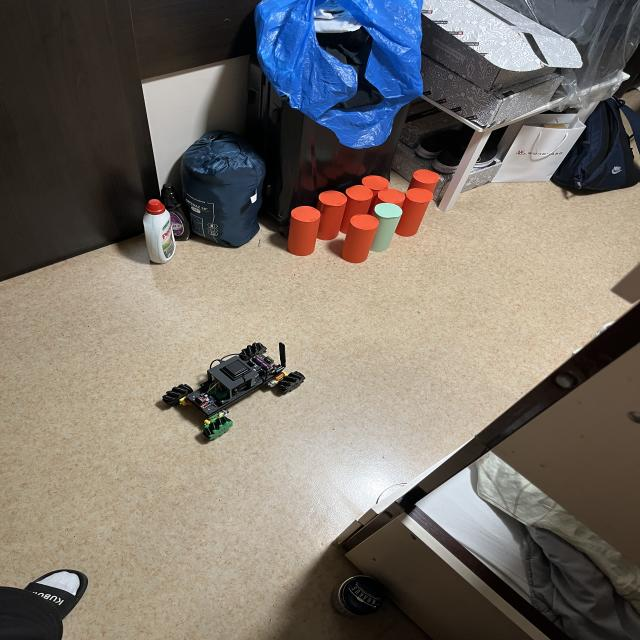robot: (163, 342, 305, 440)
